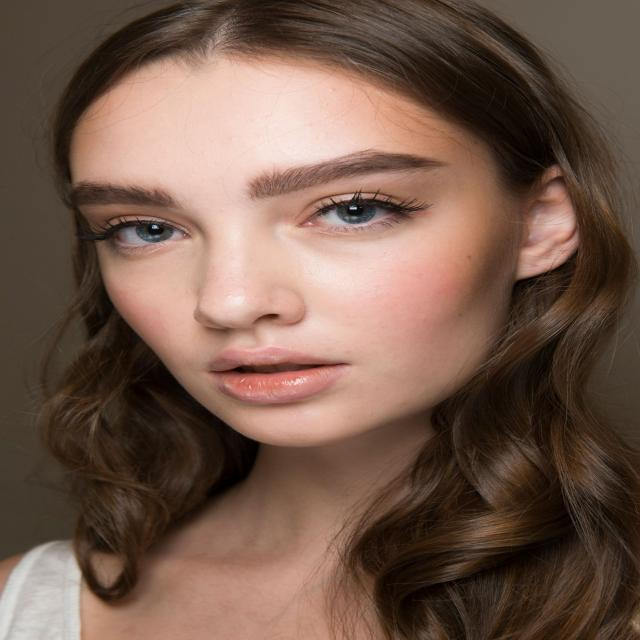earlobe: (514, 162, 585, 280)
